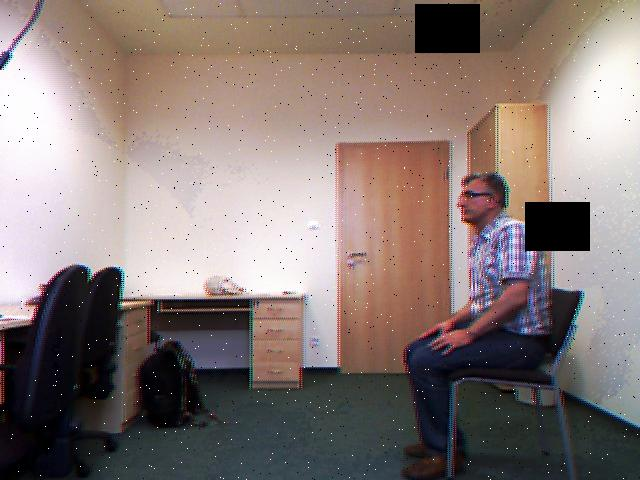sitting: (392, 172, 565, 480)
